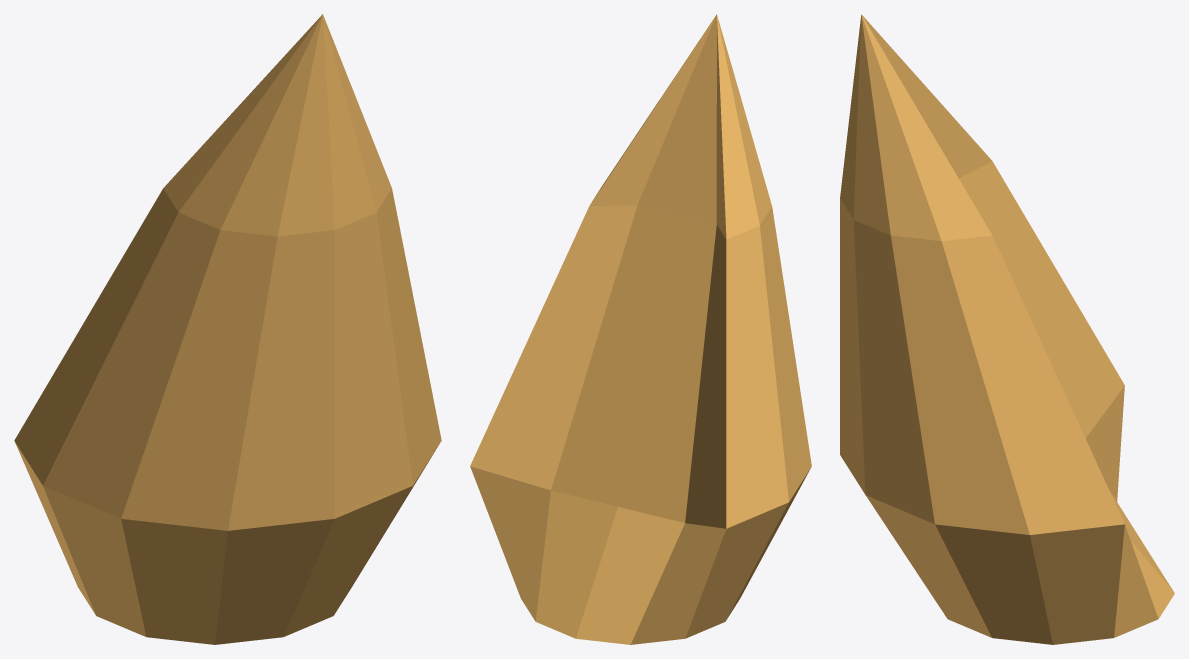
The model's file is grenadier.fbx.
3 renders of one model, left to right at view 1: azimuth 30°, elevation 25°; view 2: azimuth 150°, elevation 25°; view 3: azimuth 270°, elevation 25°, orthographic. The views are drawn at different scales.
Visible parts, largest first — view 1: Cylinder; view 2: Cylinder; view 3: Cylinder.
Boxes of the visible parts, x1=… form: Cylinder: x1=14, y1=14, x2=441, y2=644; Cylinder: x1=470, y1=14, x2=811, y2=644; Cylinder: x1=840, y1=14, x2=1174, y2=644.
Size of the model in its own units: 178 by 300 by 157.
